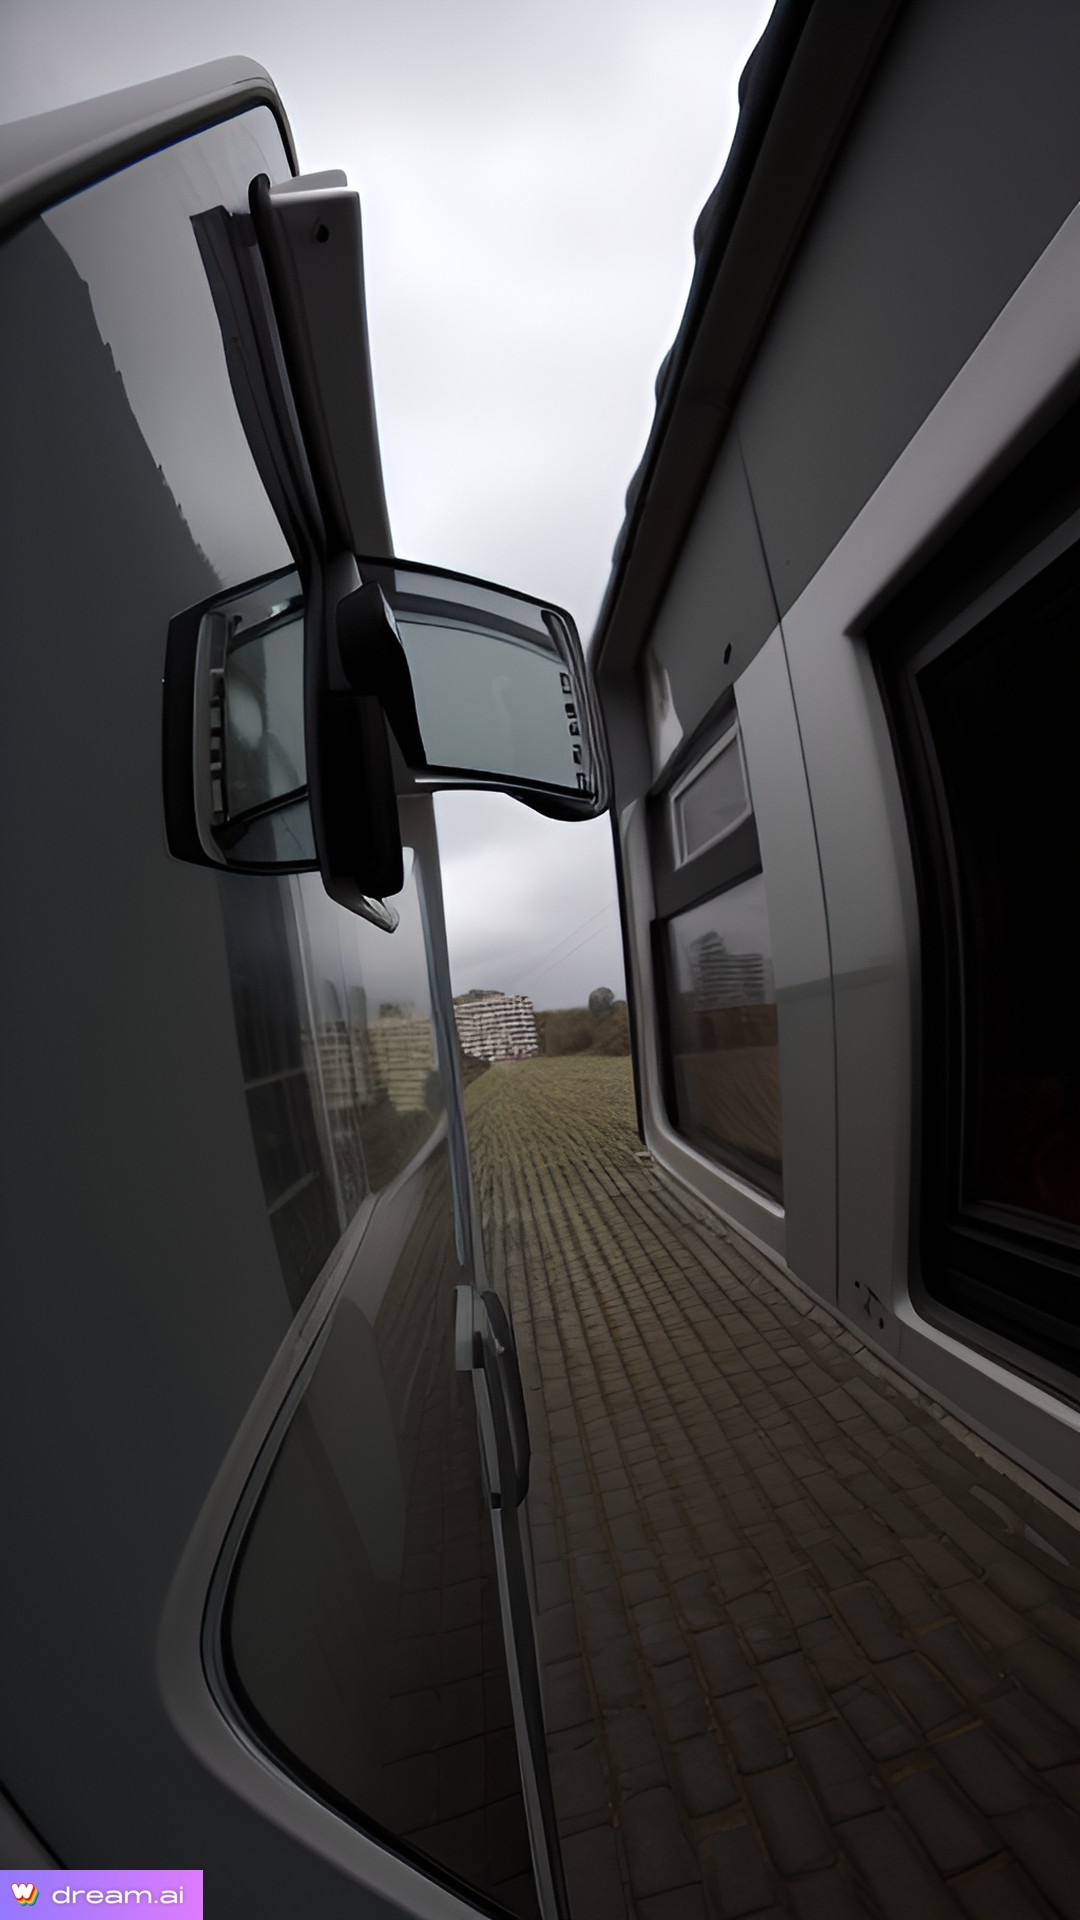window_back: (319, 504, 636, 905)
